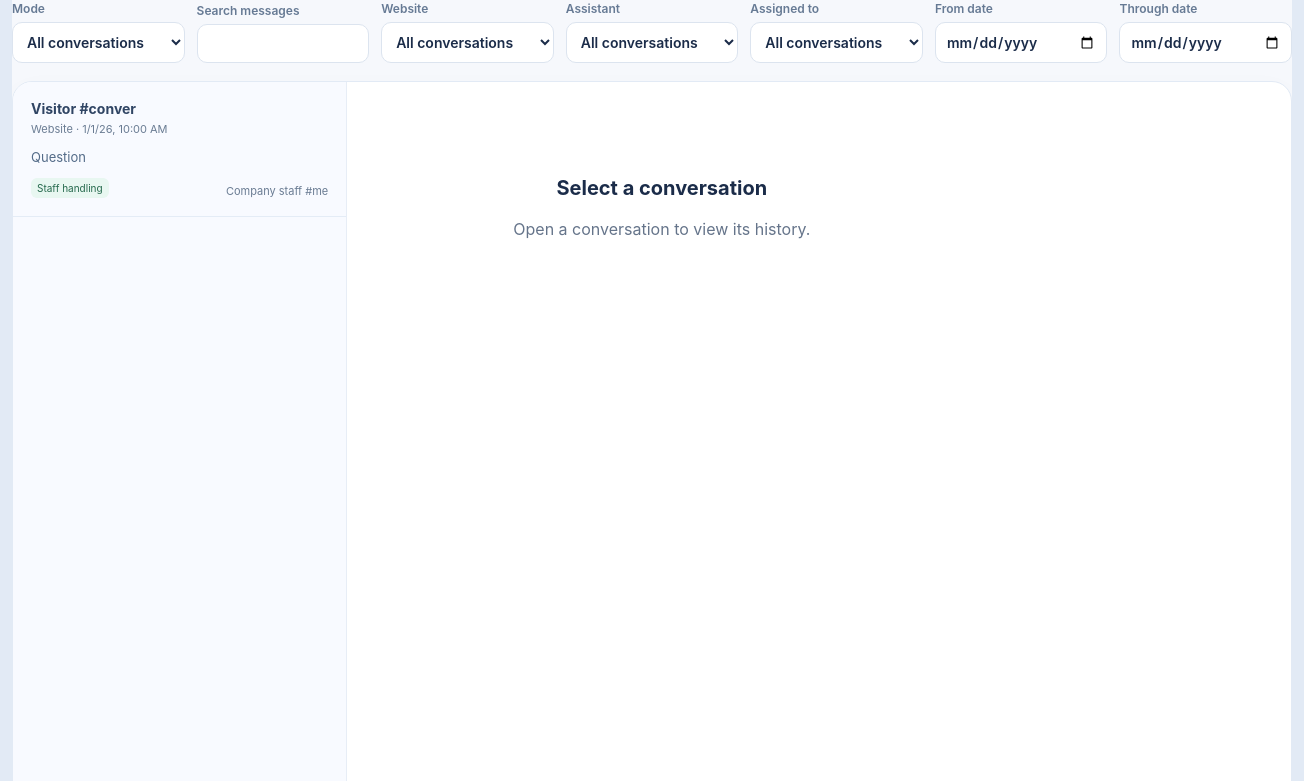
Test: reuses the staff reply idempotency key after a lost response
Click the button "Visitor #conver".
click(54, 108)  # box [13, 82, 346, 217]
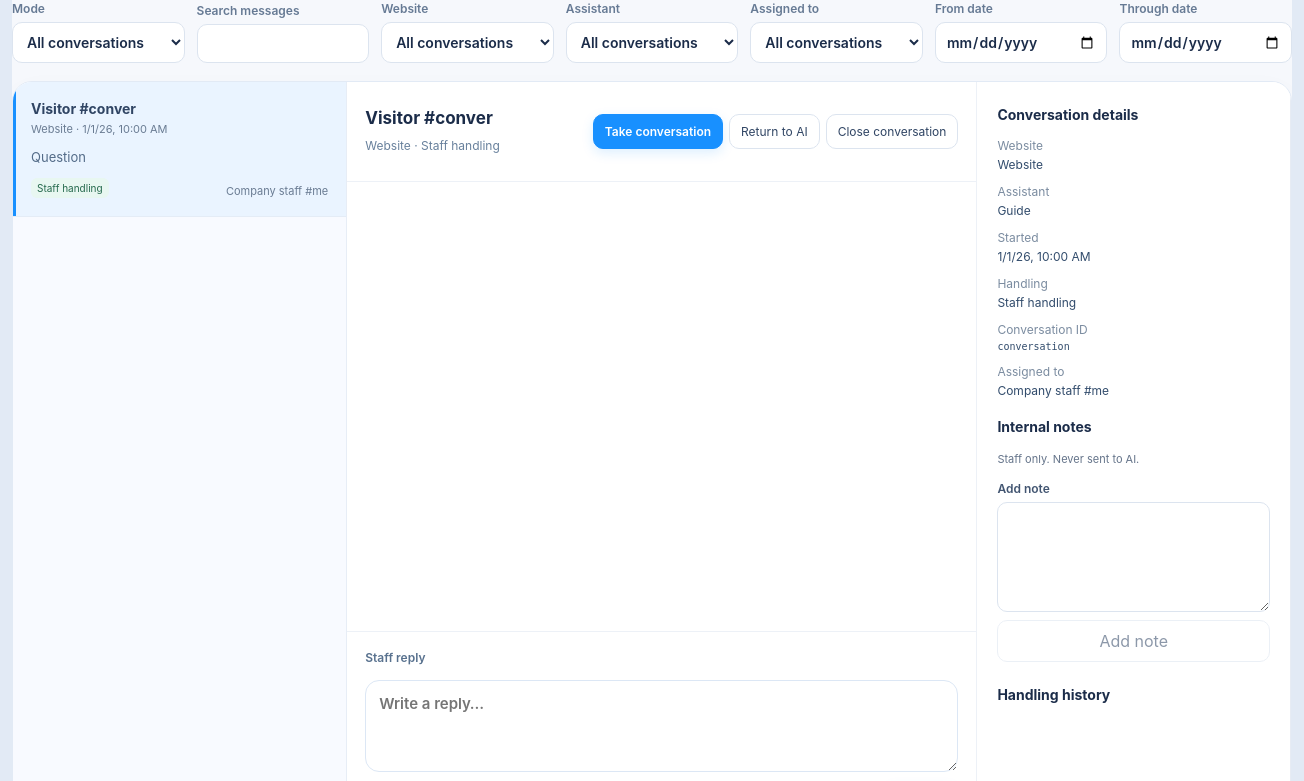
Type "Human reply" into the text box labelled "Staff reply".
click(662, 726); type("Human reply")  # box [365, 680, 958, 772]
(page scrolled)
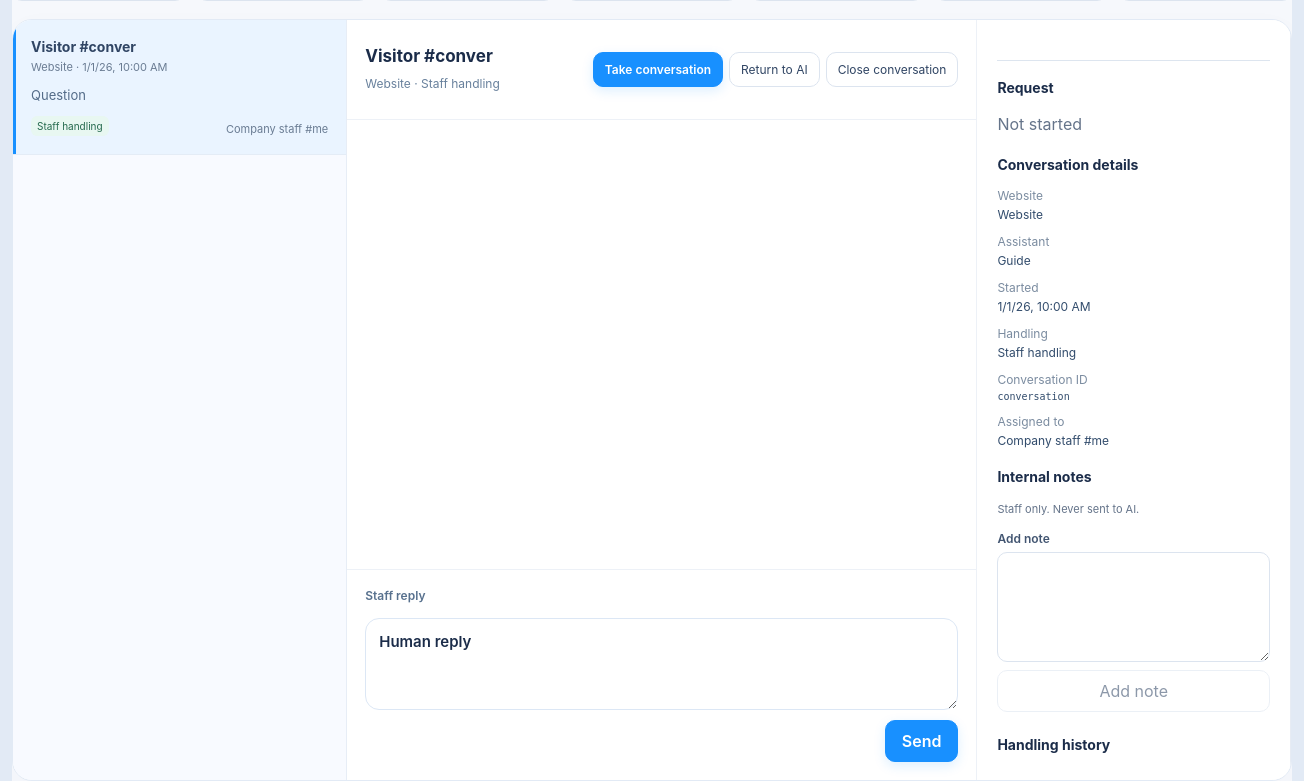
Click the button "Send".
click(922, 741)  # box [885, 720, 958, 762]
(page scrolled)
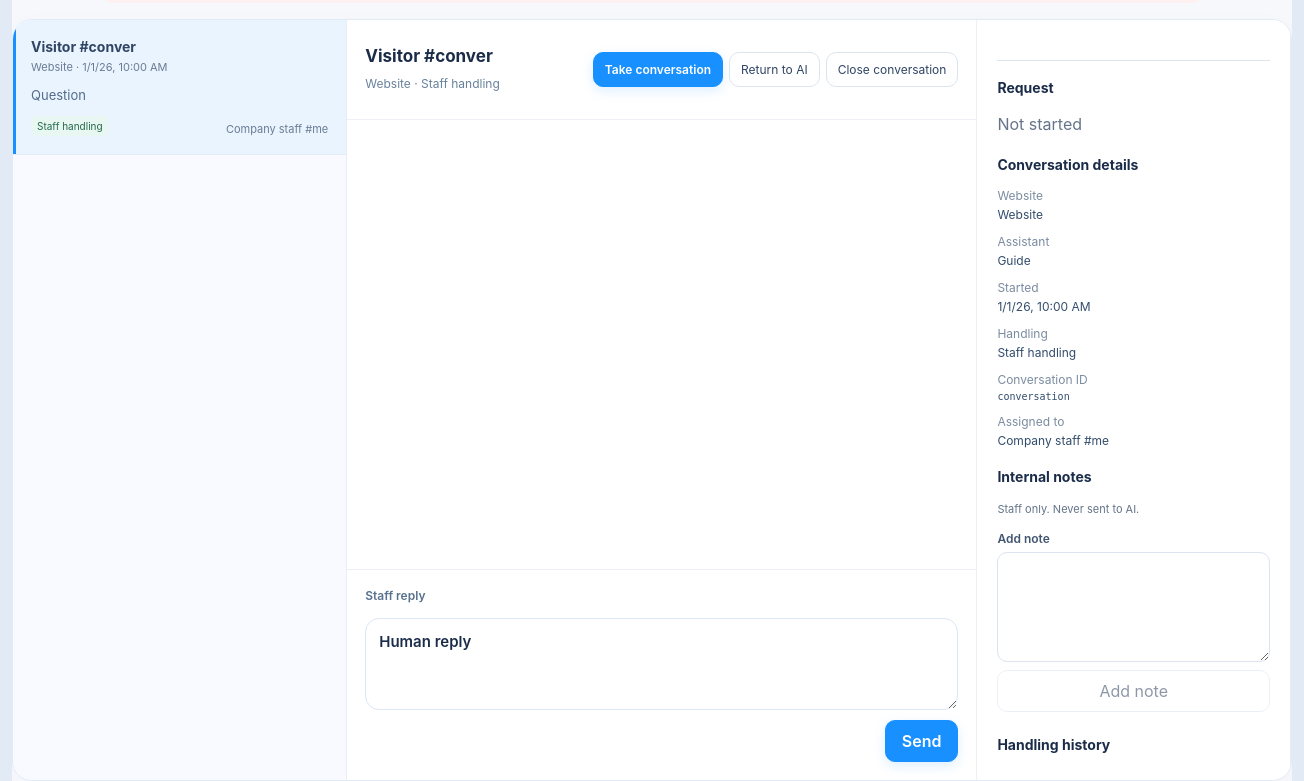
Click the button "Send".
click(922, 741)  # box [885, 720, 958, 762]
(page scrolled)
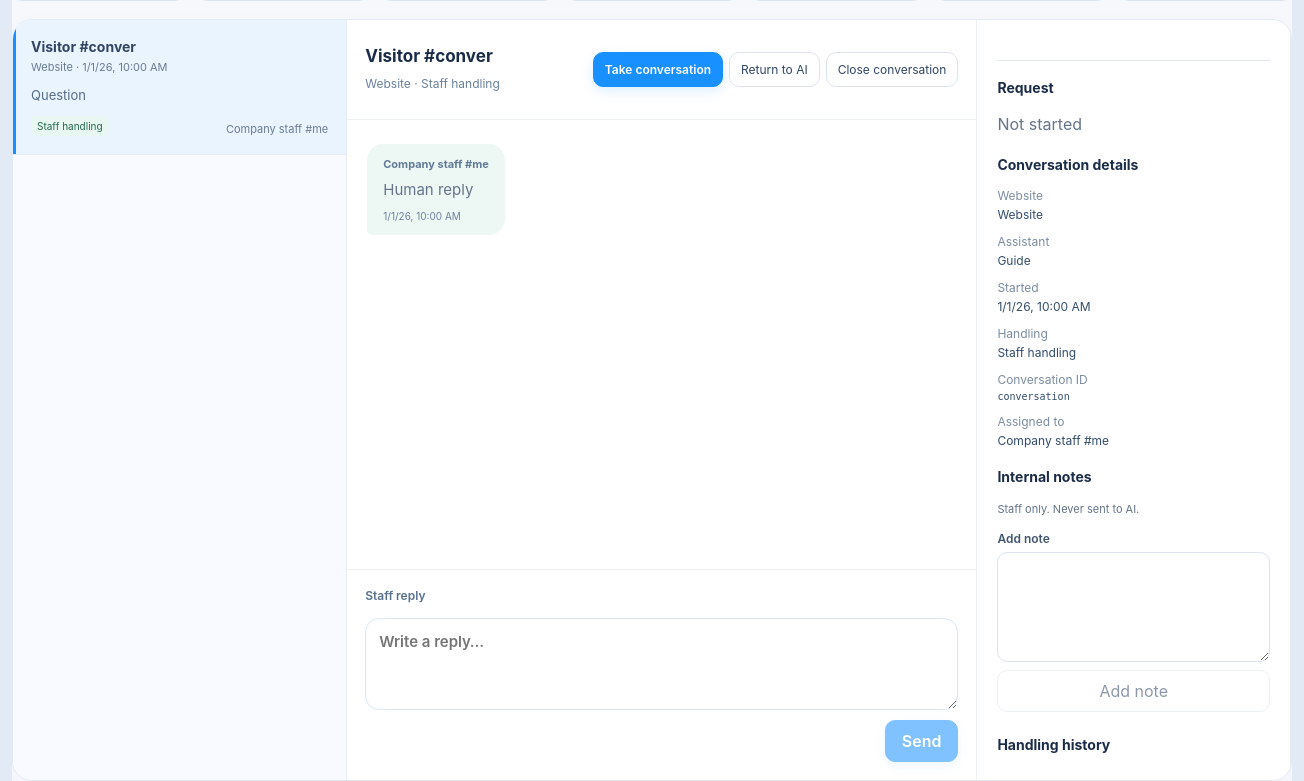
Now the text box labelled "Staff reply" is empty, box [365, 618, 958, 710]
